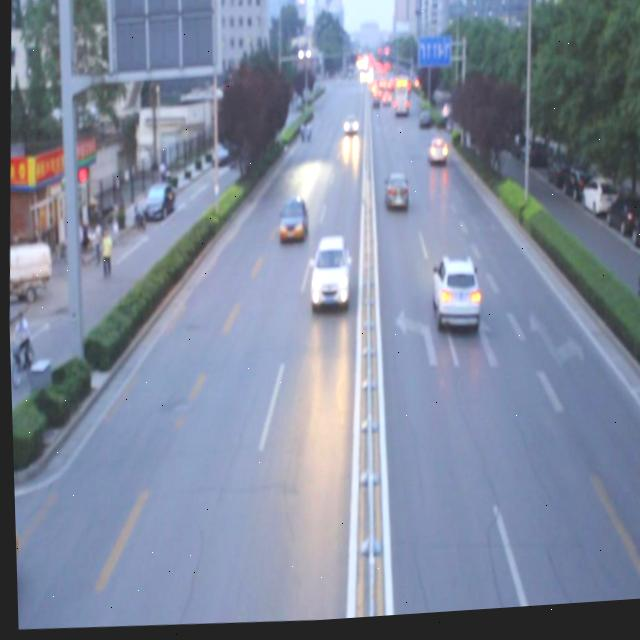car: (428, 257, 481, 339), (305, 237, 349, 313), (274, 198, 307, 249), (381, 176, 407, 217)
